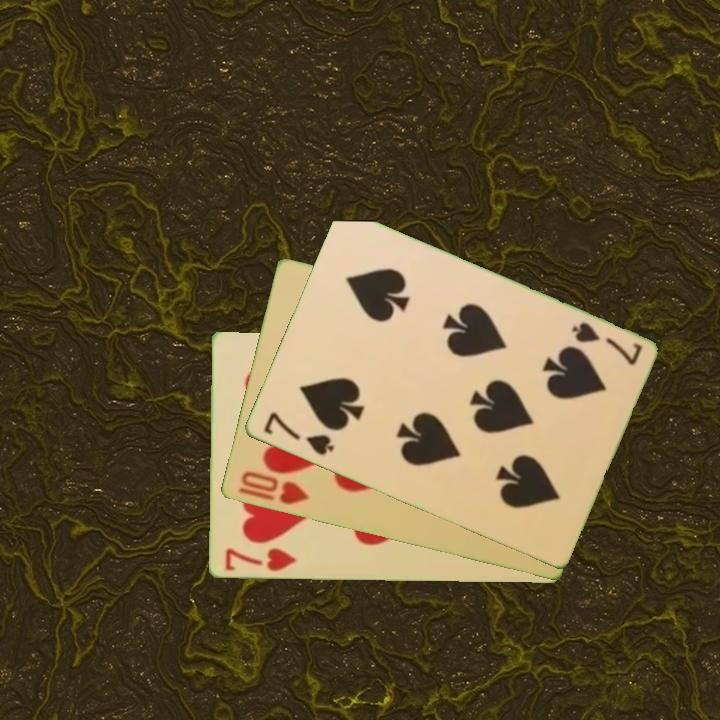10h: (234, 468, 311, 508)
7h: (221, 545, 298, 575)
7s: (567, 318, 645, 369), (259, 409, 337, 459)
